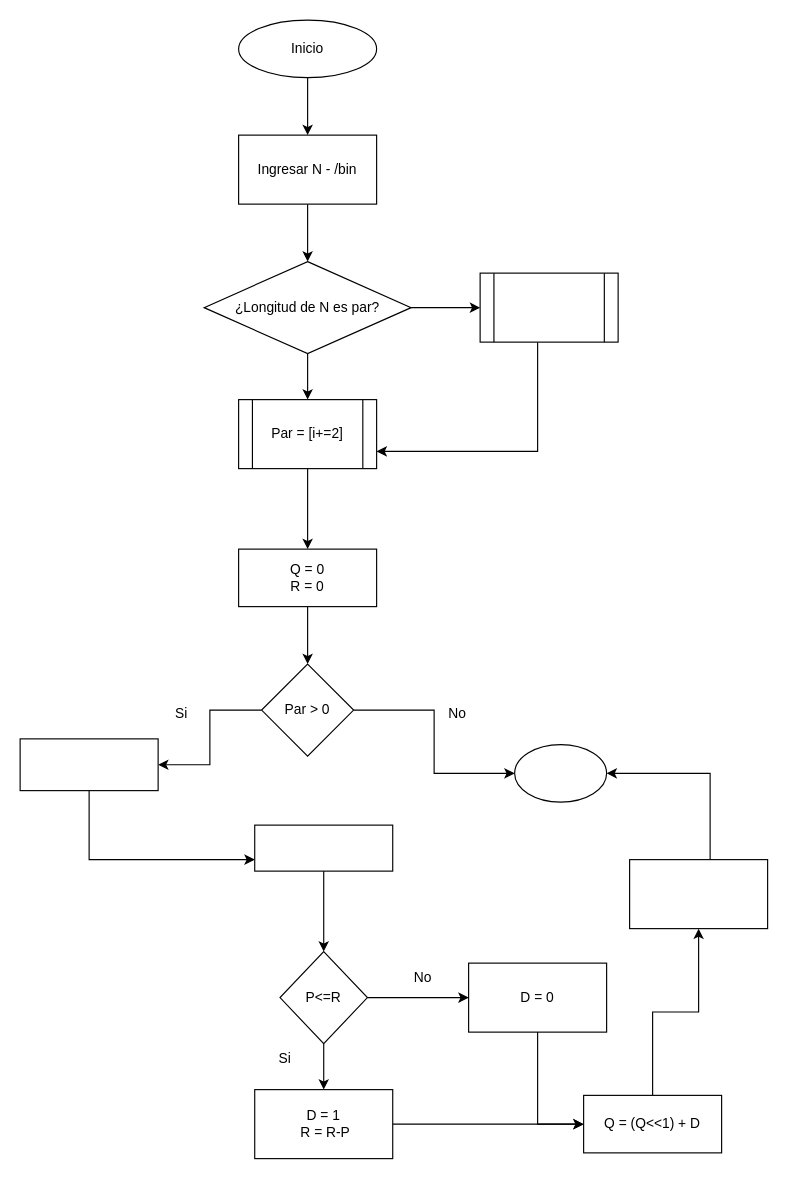
Some shapes in this 788 by 1179 pixel diagram are drawn without their labels. The shapes that lost their labels are listed below. From the top down, each one's centre as x and y in pixels, then its label:
At point (548, 307): "N=0+N".
At point (88, 764): "R = R<<2".
At point (560, 772): "Fin".
At point (323, 847): "P = (Q<<1)+1".
At point (698, 893): "Resultado = Q".
